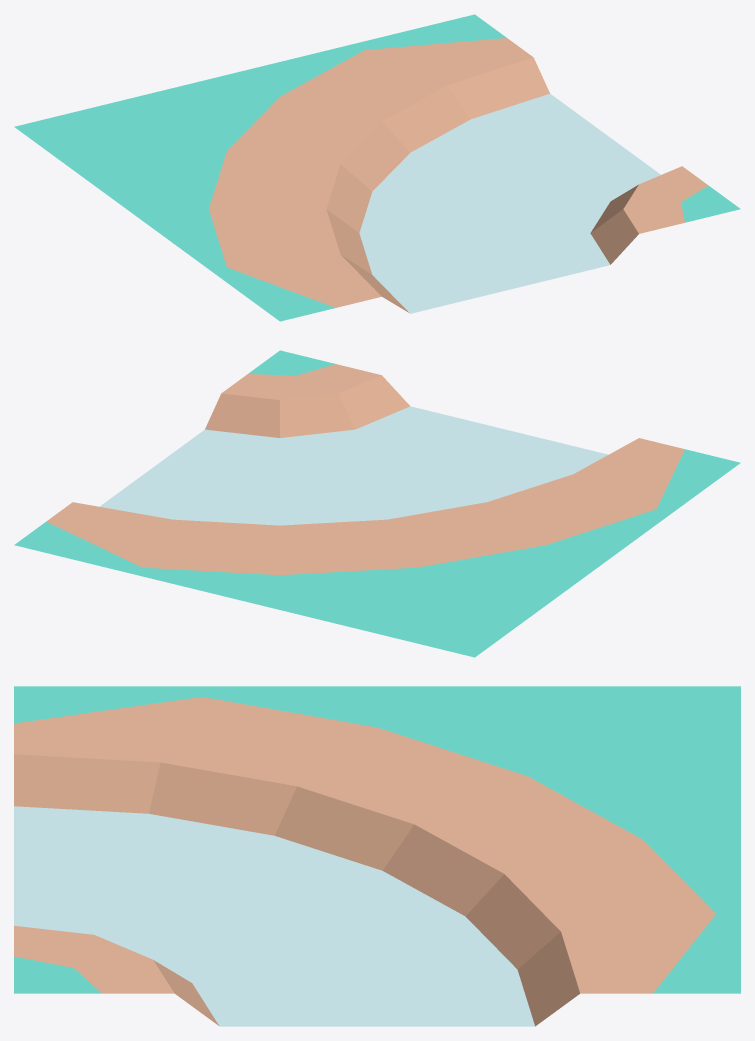
Rendered from ground_riverBendBank.glb.
3 renders of one model, top to bottom at view 1: azimuth 30°, elevation 25°; view 2: azimuth 150°, elevation 25°; view 3: azimuth 270°, elevation 25°, orthographic. The views are drawn at different scales.
Parts seen in each view (by area): view 1: ground_riverBendBank; view 2: ground_riverBendBank; view 3: ground_riverBendBank.
Part boxes in pixels (left/top/right/bottom): ground_riverBendBank: left=14, top=14, right=740, bottom=321; ground_riverBendBank: left=14, top=350, right=740, bottom=657; ground_riverBendBank: left=14, top=686, right=740, bottom=1026.
Bounding box in the file's own units: 1 × 0.05 × 1.
